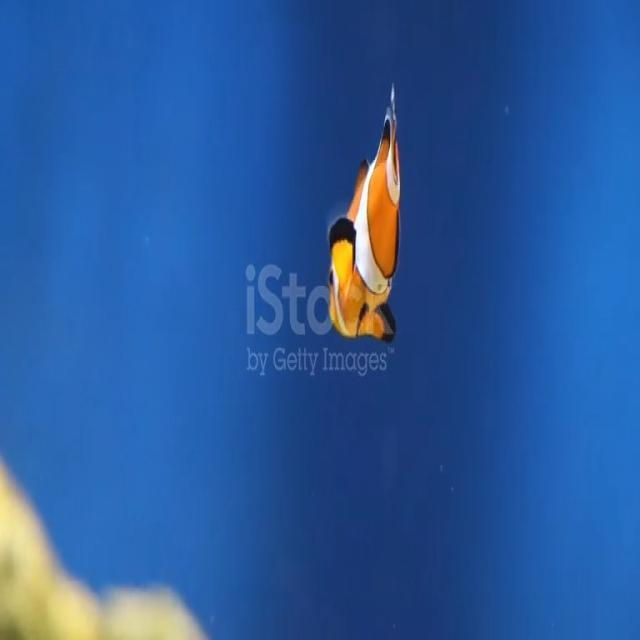fish: (324, 85, 404, 345)
